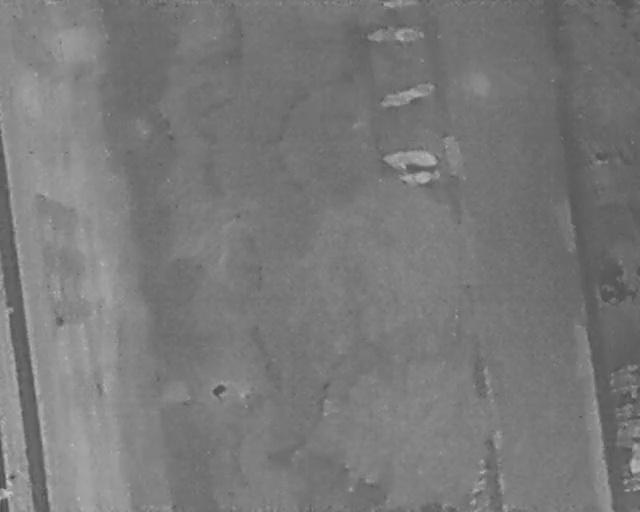Bicycle: (377, 80, 437, 107), (366, 25, 426, 44), (378, 150, 440, 168), (391, 169, 441, 189)
